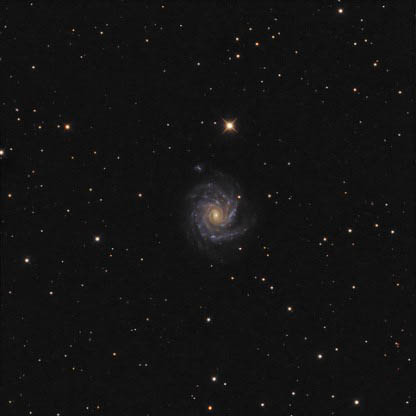NGC 1232: (182, 157, 257, 268)
